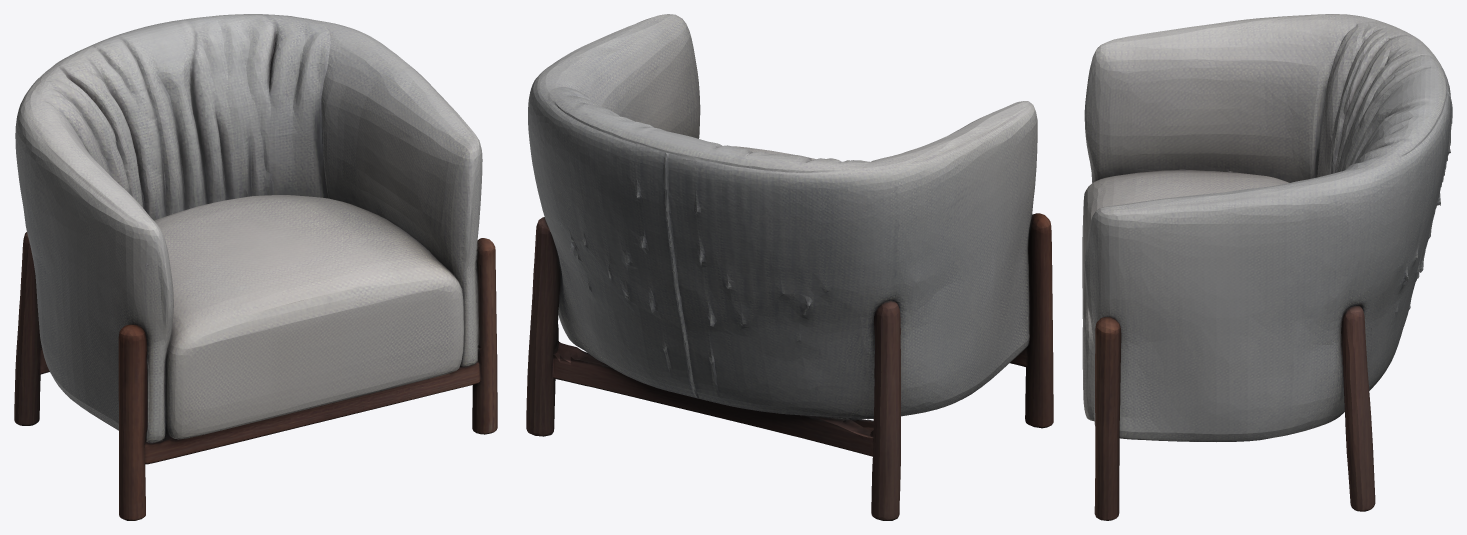
File: SILLON BALI NATURAL.glb
3 renders of one model, left to right at view 1: azimuth 30°, elevation 25°; view 2: azimuth 150°, elevation 25°; view 3: azimuth 270°, elevation 25°, orthographic. The views are drawn at different scales.
Visible parts, largest first — view 1: world; view 2: world; view 3: world.
Boxes of the visible parts, box(x1,y1,x2,y2) form: world: box(14, 14, 497, 520); world: box(526, 14, 1053, 520); world: box(1082, 14, 1452, 520).
Size of the model in its own units: 0.96 by 0.81 by 0.79.
1 material, 1 textured.
